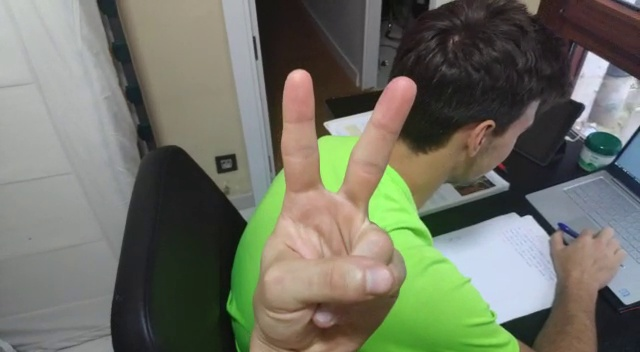Peace: (247, 66, 419, 345)
